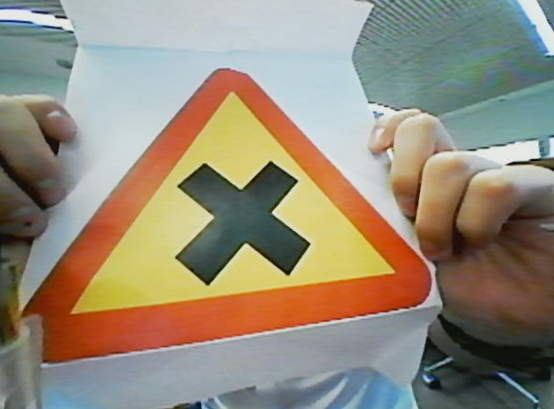junction: (22, 67, 443, 360)
